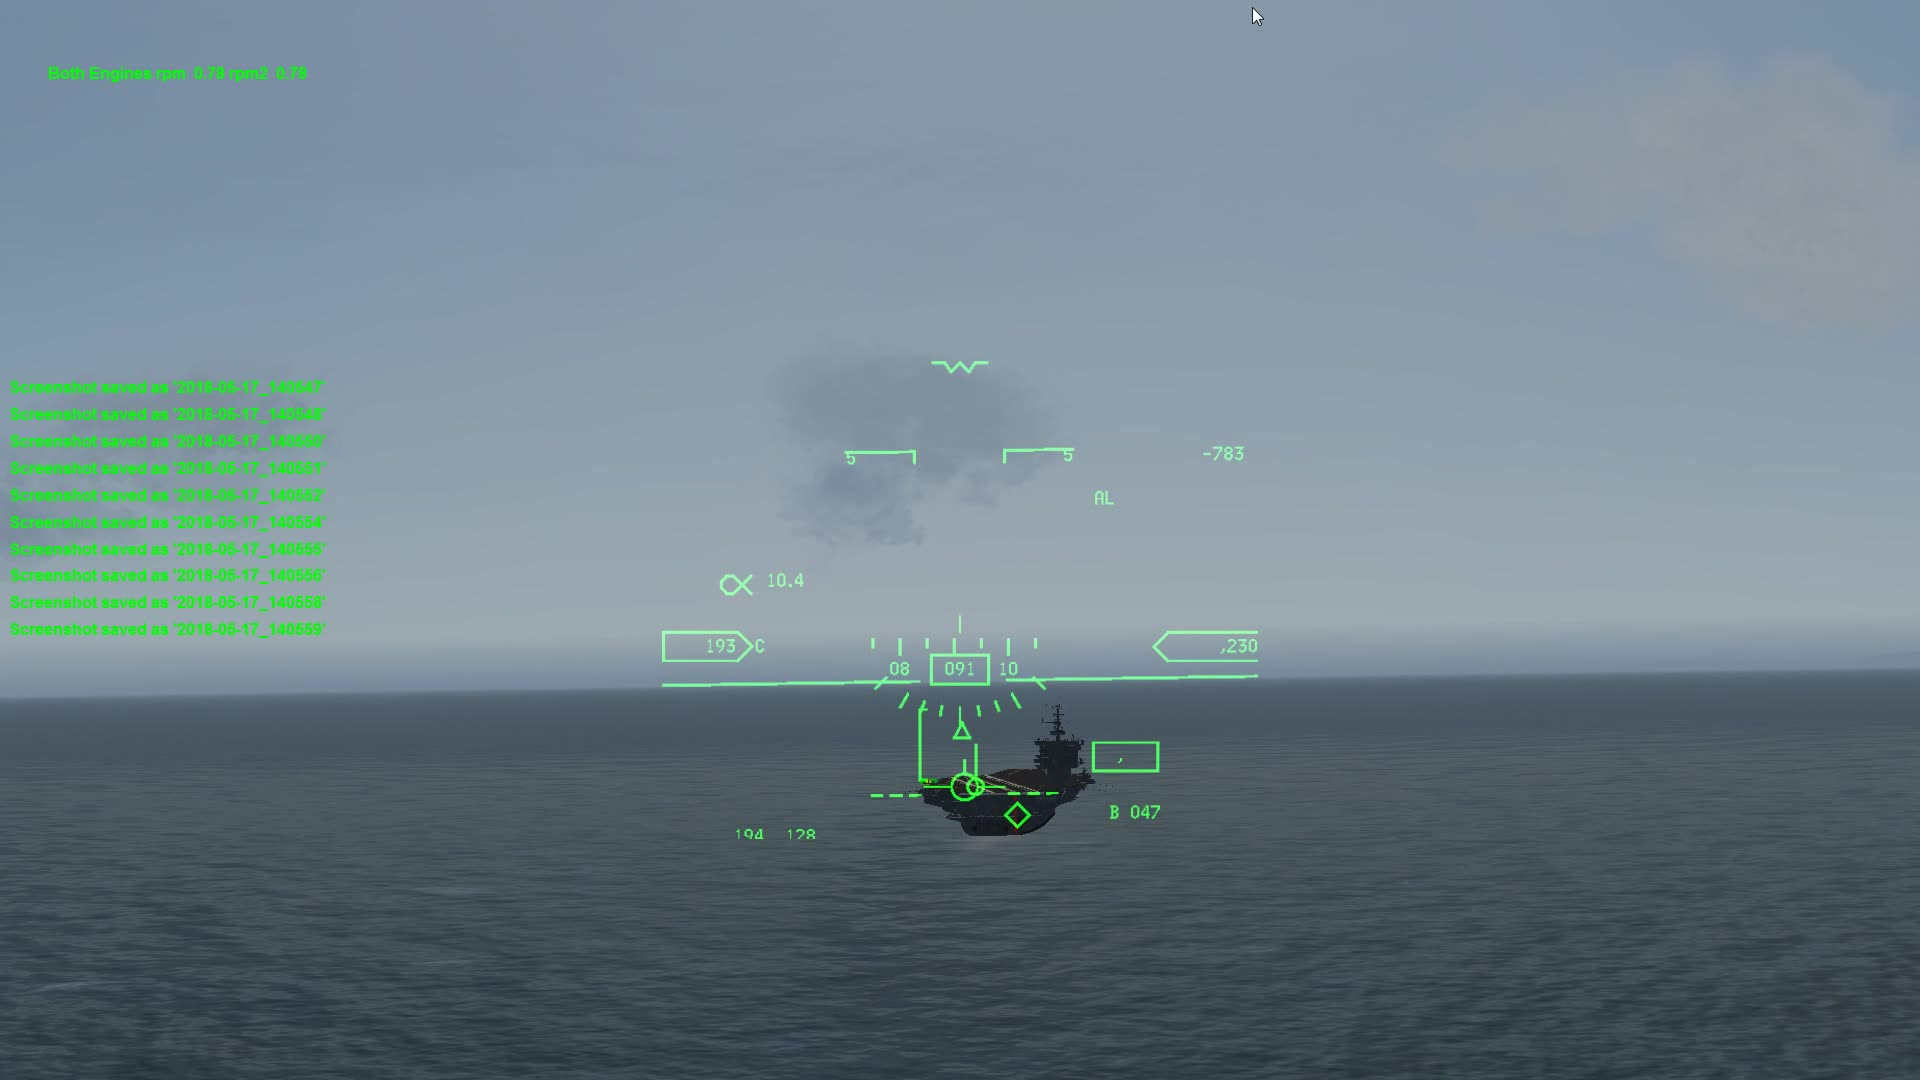speed vector: (922, 752, 1005, 803)
